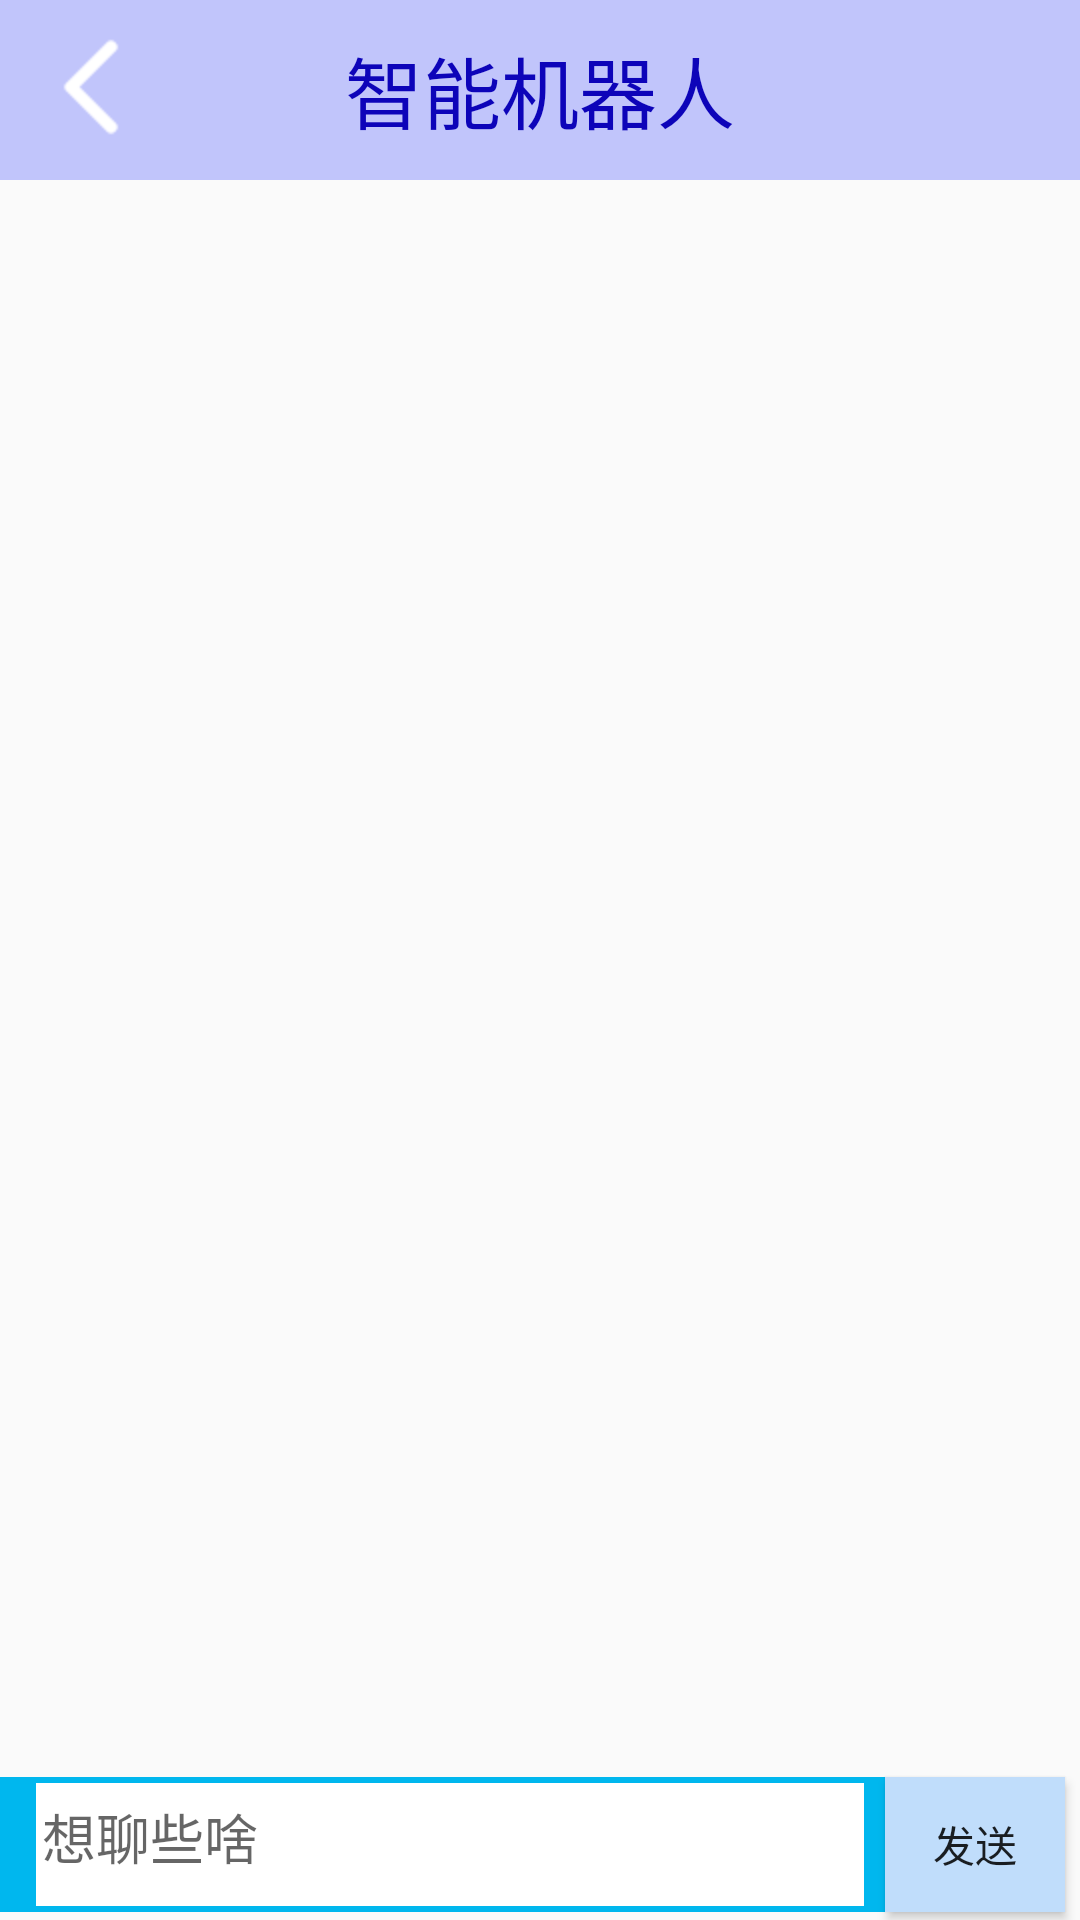

Named icons in this screenshot (1080px×1920px) and their bounding boxes, (x1, y1, x2, y2):
return: (64, 40, 118, 134)
